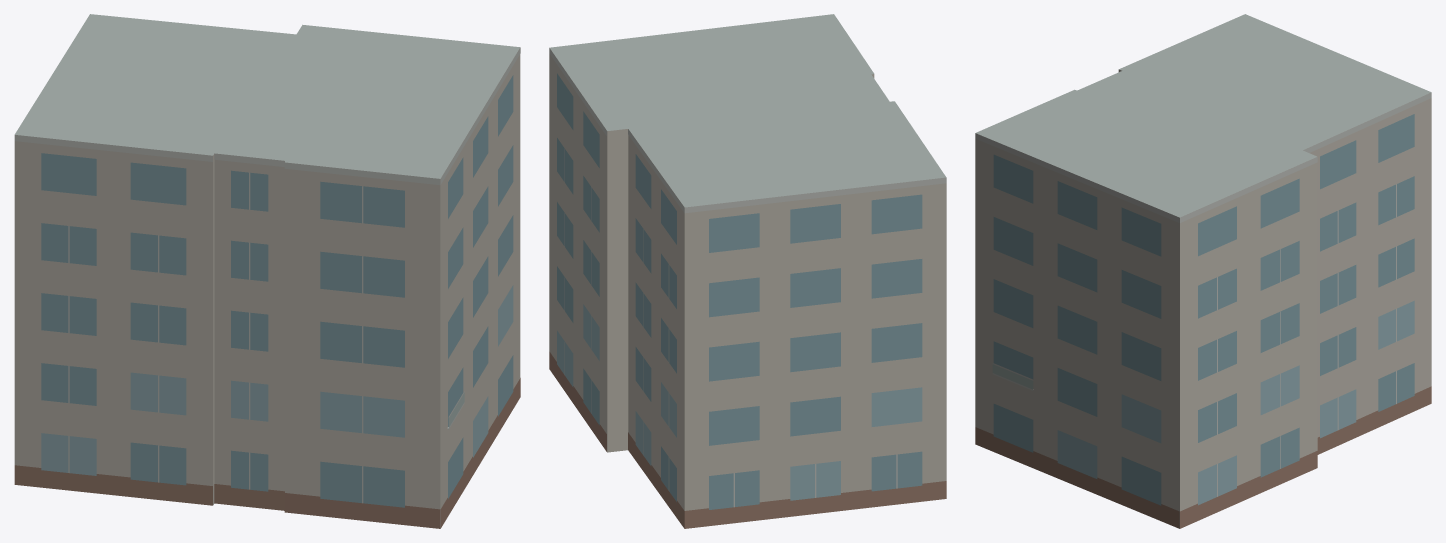
The model's file is survey-upis-32842817.glb.
3 renders of one model, left to right at view 1: azimuth 30°, elevation 25°; view 2: azimuth 150°, elevation 25°; view 3: azimuth 270°, elevation 25°, orthographic. The views are drawn at different scales.
Visible parts, largest first — view 1: survey-upis-32842817.tmp; view 2: survey-upis-32842817.tmp; view 3: survey-upis-32842817.tmp.
Boxes of the visible parts, <box> form: survey-upis-32842817.tmp: <box>14,14,520,528</box>; survey-upis-32842817.tmp: <box>549,14,946,528</box>; survey-upis-32842817.tmp: <box>975,14,1431,528</box>.
Size of the model in its own units: 18.95 by 13.5 by 17.95.
